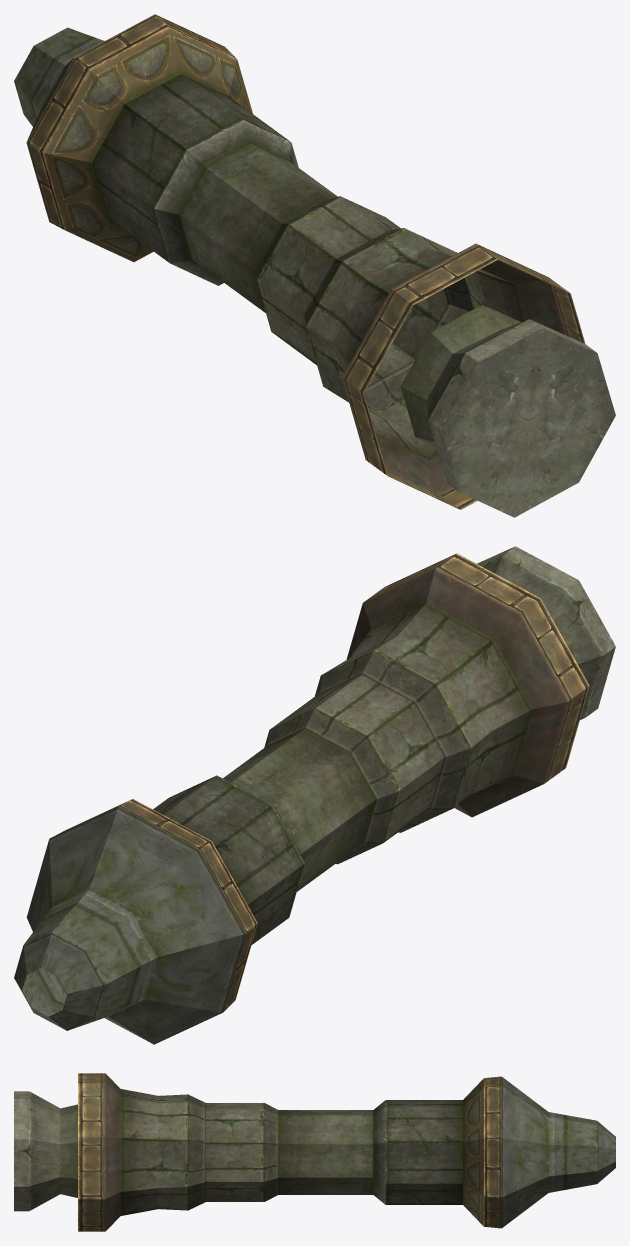
File: zhucheng_yewai_291_shangye_jz_01_k.obj
The picture shows the model from 3 angles, top to bottom: view 1: azimuth 30°, elevation 25°; view 2: azimuth 150°, elevation 25°; view 3: azimuth 270°, elevation 25°; orthographic projection. The views are drawn at different scales.
Parts seen in each view (by area): view 1: zhucheng_yewai_291_shangye_jz_01_e; view 2: zhucheng_yewai_291_shangye_jz_01_e; view 3: zhucheng_yewai_291_shangye_jz_01_e.
Boxes of the visible parts, x1,y1,x2,y2 form: zhucheng_yewai_291_shangye_jz_01_e: (14, 14, 615, 517); zhucheng_yewai_291_shangye_jz_01_e: (14, 546, 615, 1044); zhucheng_yewai_291_shangye_jz_01_e: (14, 1073, 615, 1231).
Bounding box in the file's own units: 277 × 277 × 1011.
7 materials, 7 textured.
